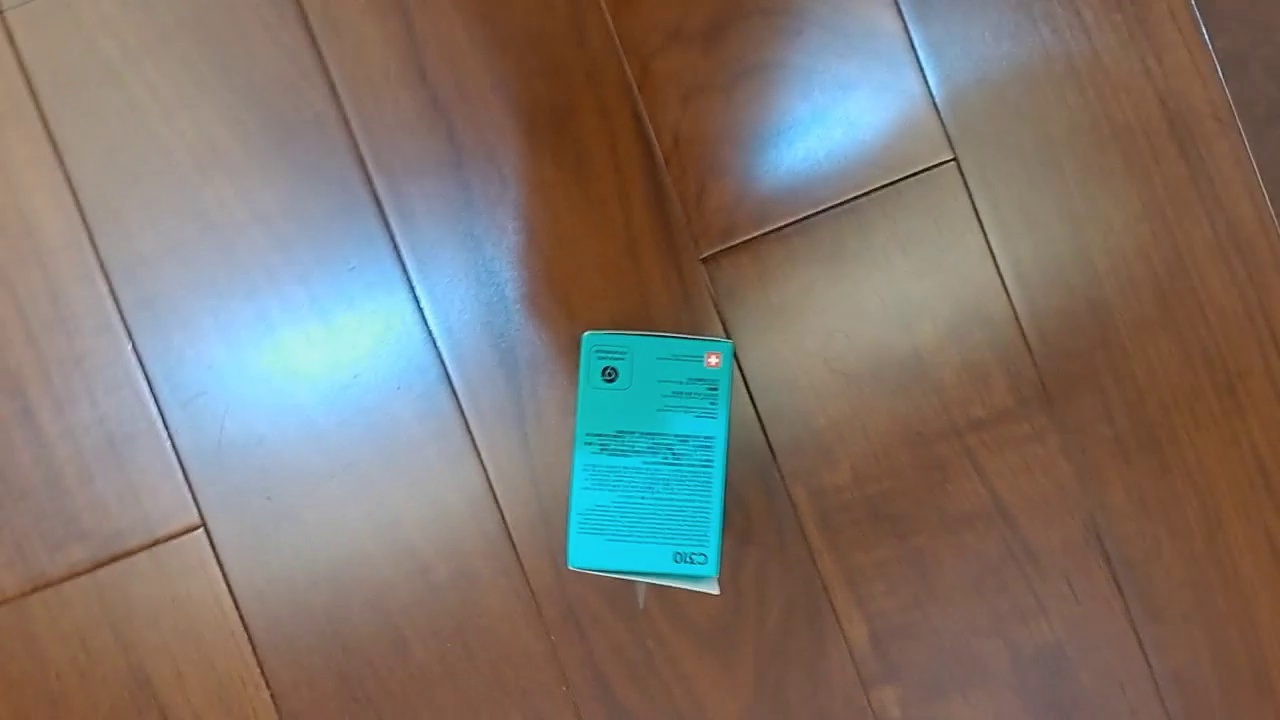webcam: (566, 328, 736, 597)
